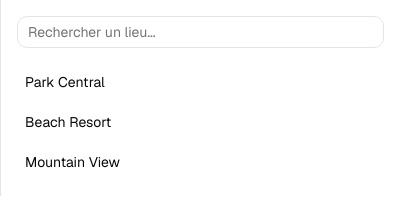
Test: LocationSidebar › filters locations based on search input
Type "park" into the field with placeholder "Rechercher un lieu..." at {"x": 200, "y": 32}, box [17, 16, 384, 48]
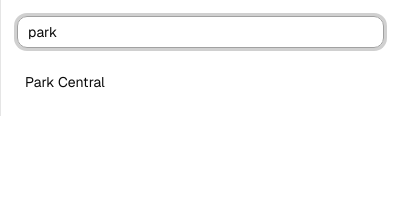
expect the button "Park Central" is shown: met, box [17, 64, 384, 100]
expect the button "Beach Resort" is gone: met
expect the button "Mountain View" is gone: met
